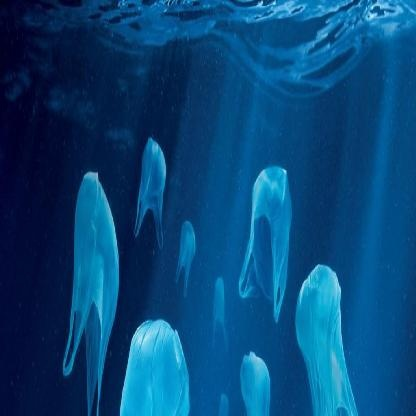pbag: (57, 158, 121, 416), (292, 246, 363, 416), (237, 152, 293, 335), (113, 302, 196, 416), (129, 120, 168, 260), (234, 328, 274, 416), (204, 269, 234, 351), (173, 212, 196, 296), (214, 374, 233, 416)
